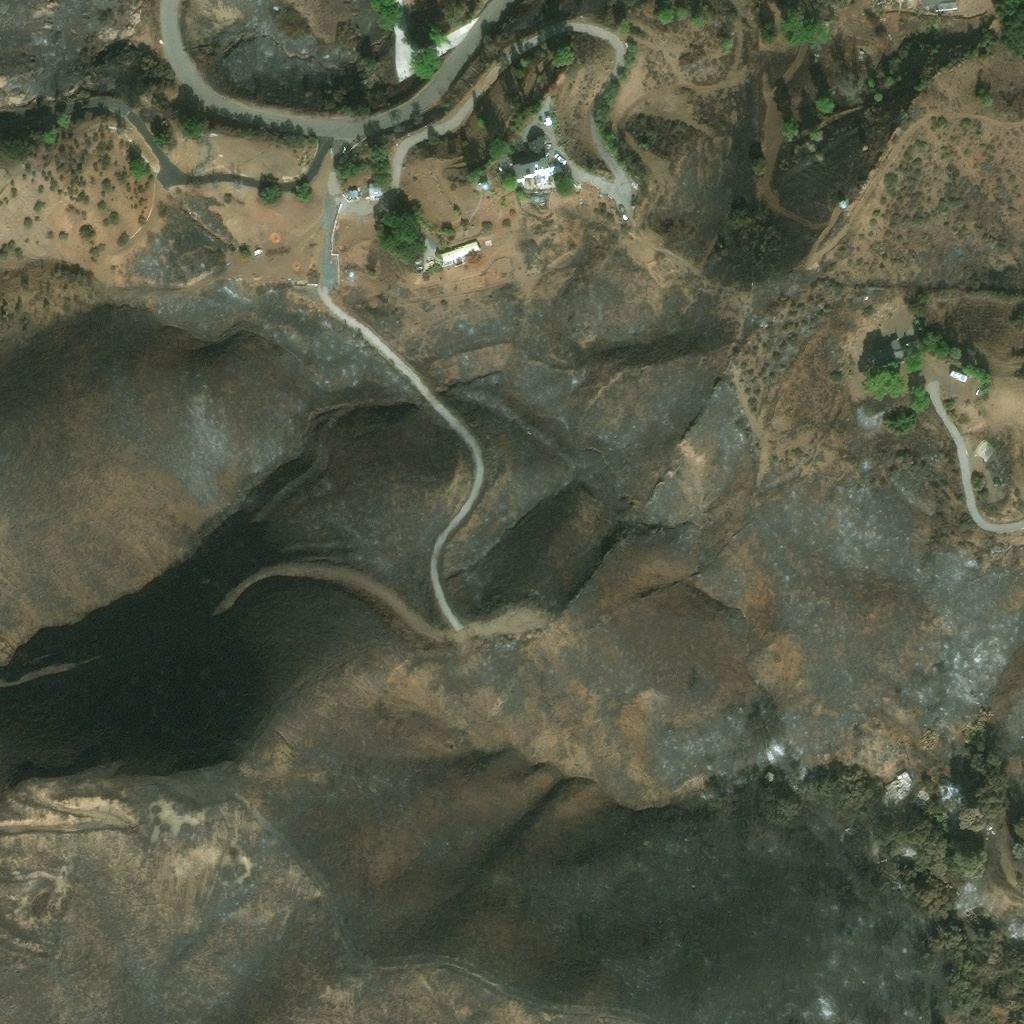0 no-damage: (509, 135, 548, 175), (515, 162, 557, 192), (438, 239, 480, 268), (882, 335, 919, 367), (921, 0, 958, 11), (948, 369, 967, 383), (368, 182, 383, 197), (347, 187, 362, 198), (485, 238, 493, 247), (480, 182, 487, 190)
3 destroyed: (874, 765, 915, 807), (762, 769, 775, 783)
